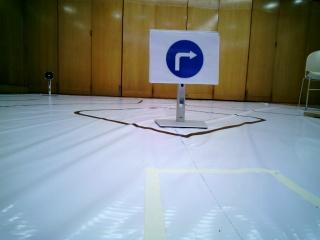right: (155, 31, 216, 84)
